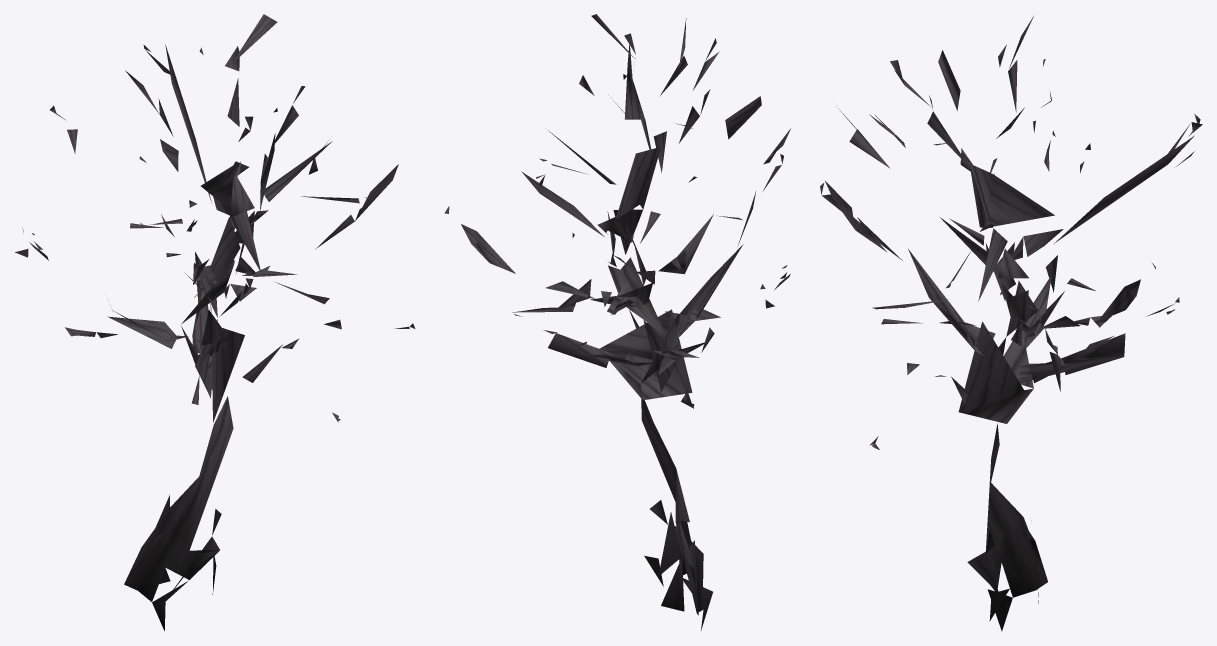
Rendered from kering-1-lod.glb.
3 views of the same model, side by side, from view 1: azimuth 30°, elevation 25°; view 2: azimuth 150°, elevation 25°; view 3: azimuth 270°, elevation 25° (orthographic). The views are drawn at different scales.
Parts seen in each view (by area): view 1: DeadTree_1; view 2: DeadTree_1; view 3: DeadTree_1.
Boxes of the visible parts, x1,y1,x2,y2 form: DeadTree_1: (15,14,415,630); DeadTree_1: (445,14,790,630); DeadTree_1: (820,16,1202,631).
Size of the model in its own units: 4.05 by 7.61 by 4.11.
Materials: 1 (1 with a texture image).
